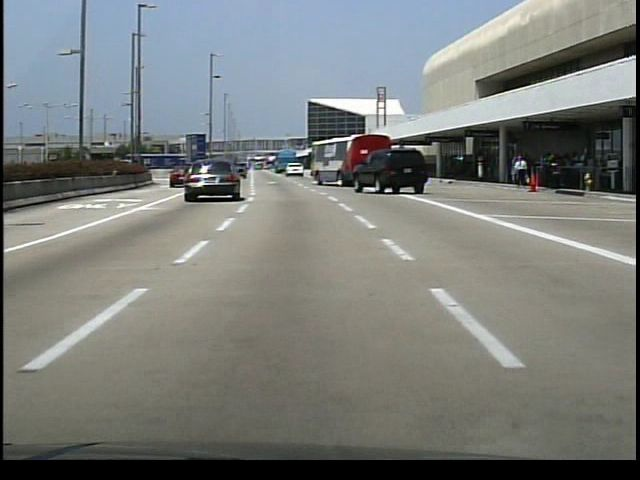person: (511, 154, 527, 190)
